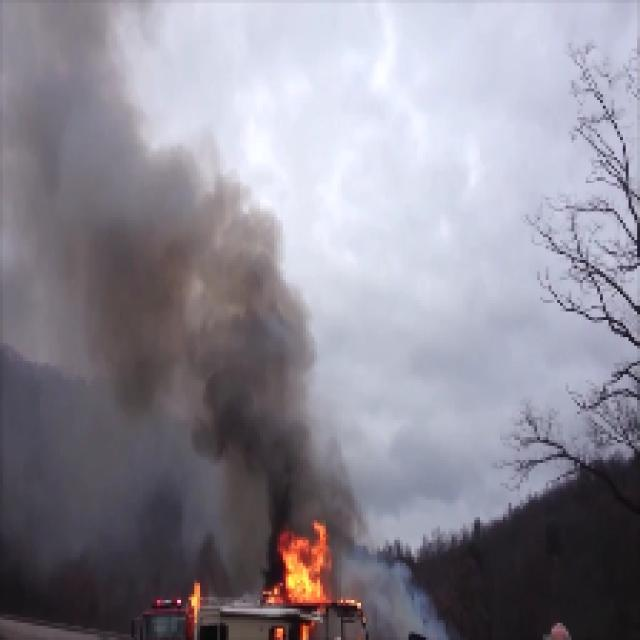fire: (277, 526, 328, 606)
smoke: (183, 240, 259, 454), (262, 360, 325, 525)
